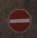No entry: (5, 5, 32, 33)
